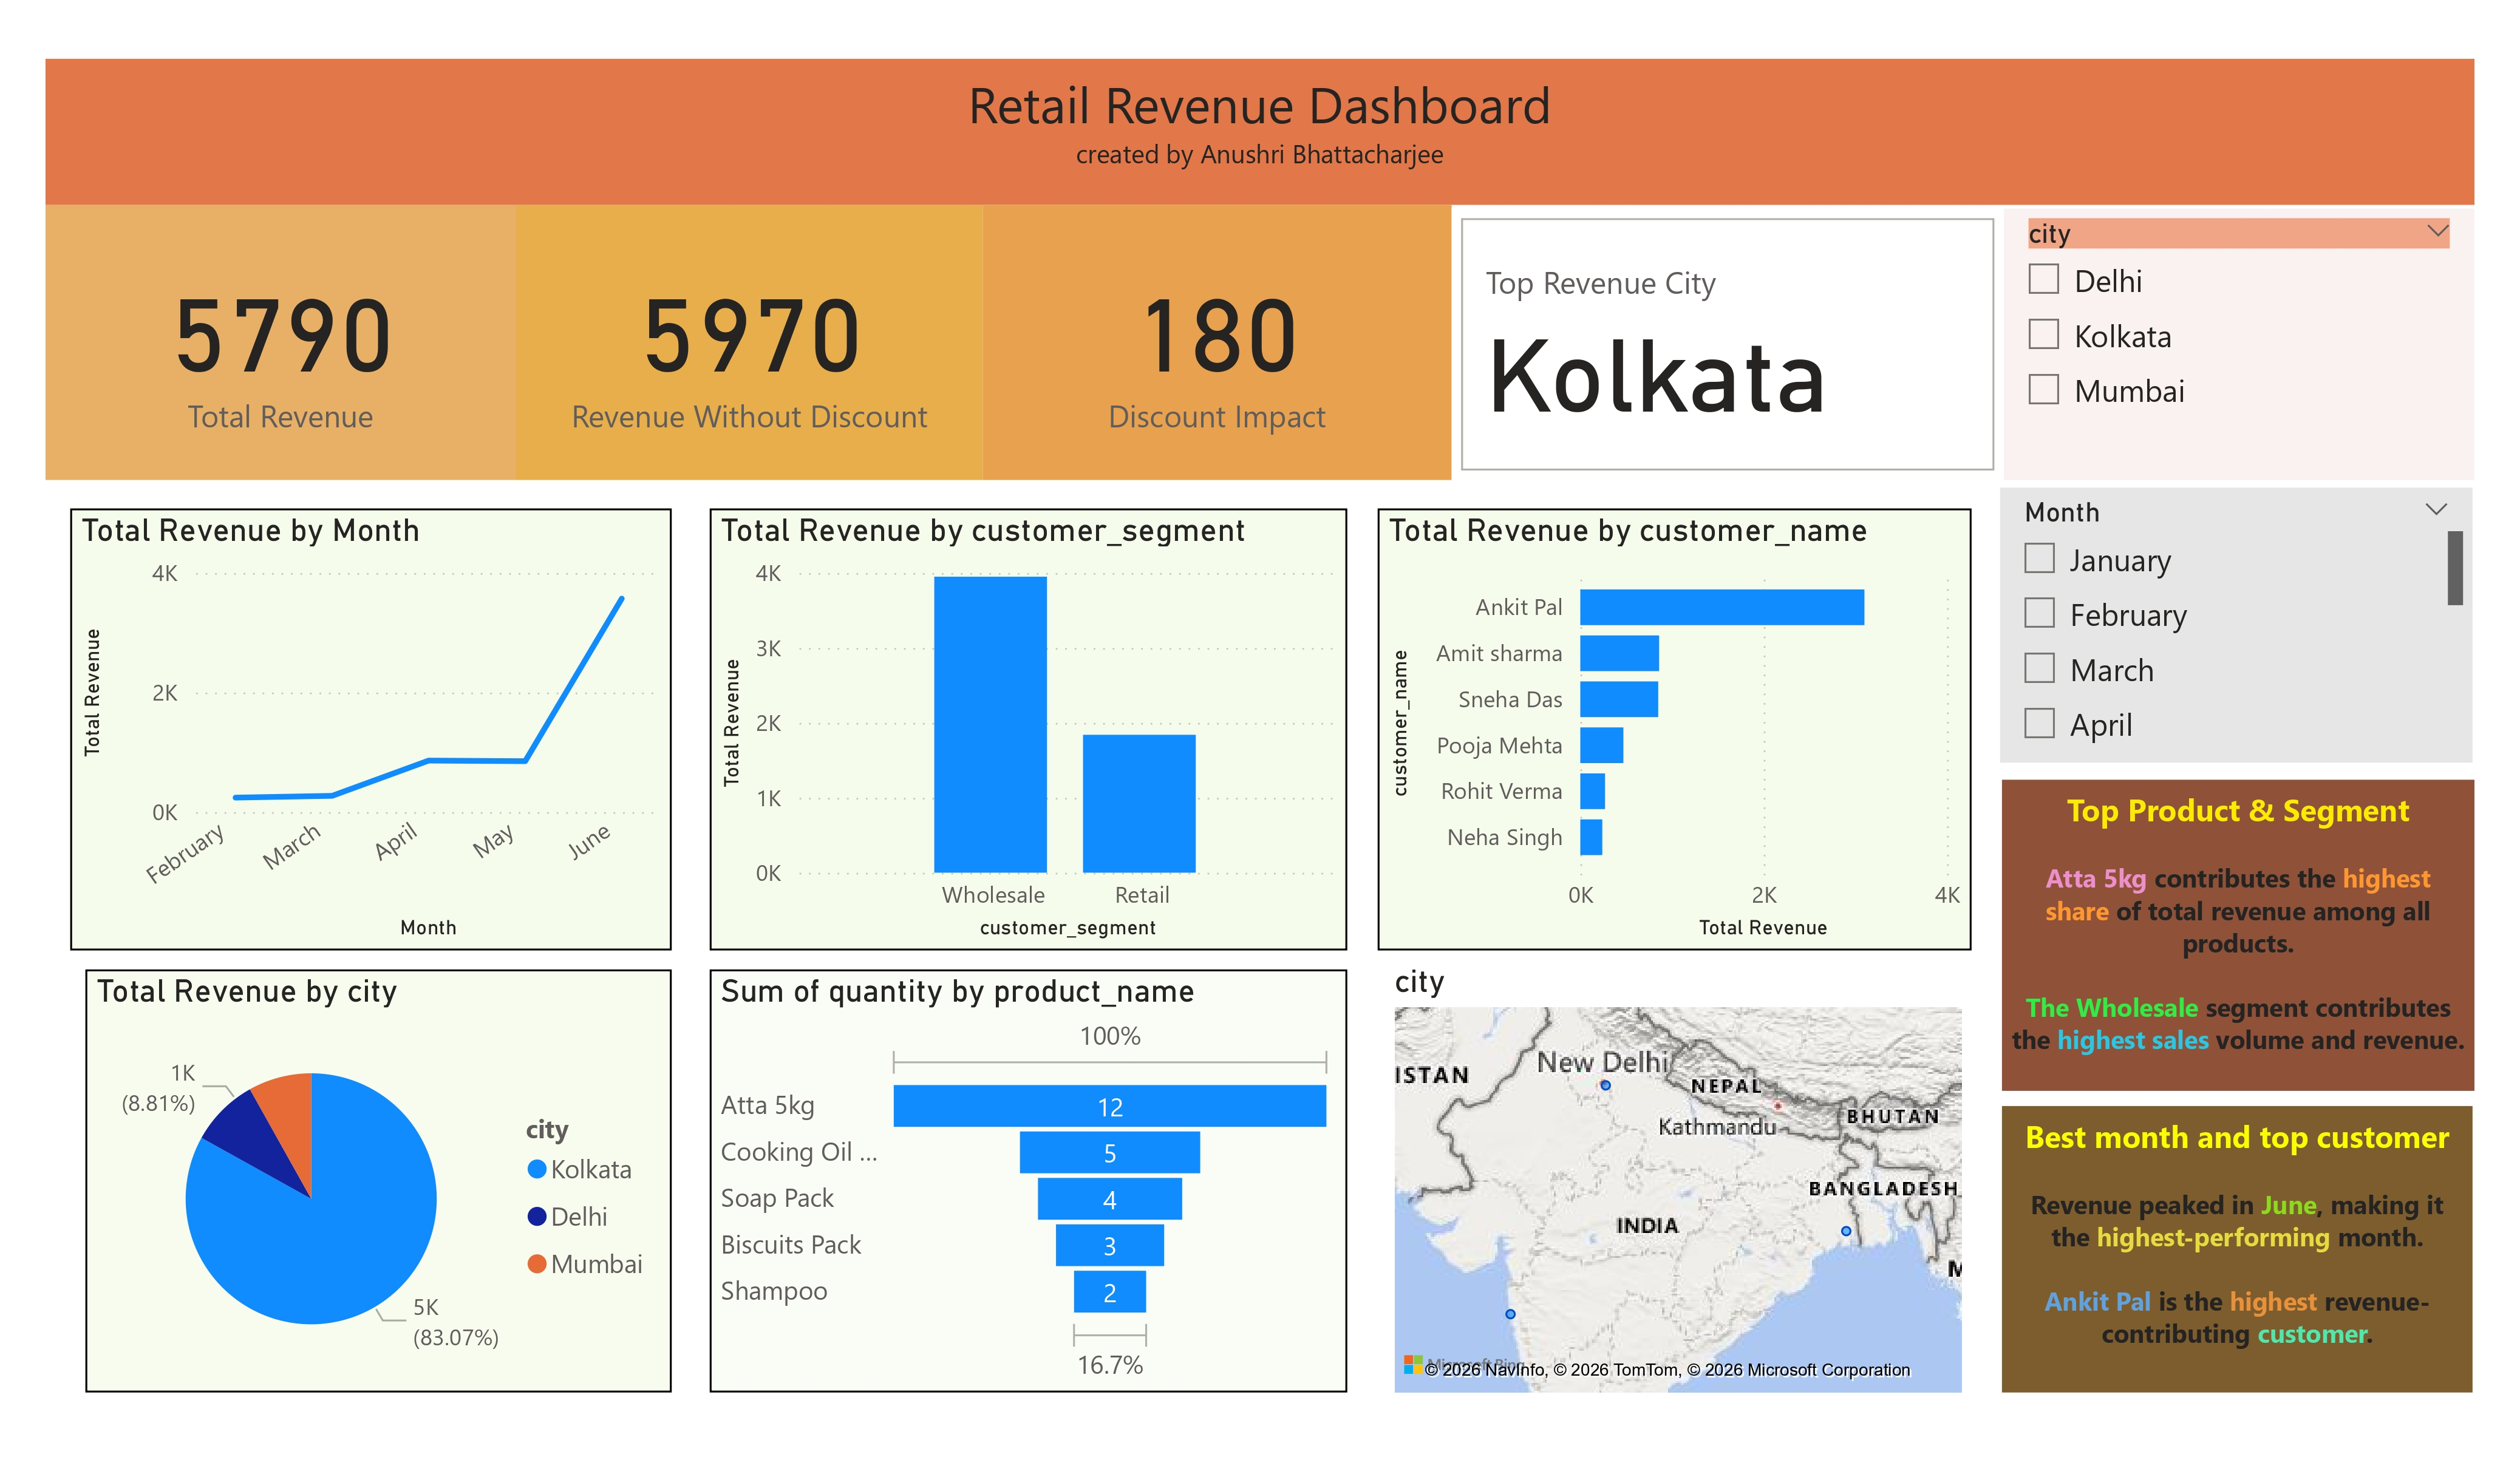

Layout of this report page (visuals, bound fields, positions):
{"tool":"powerbi","page":{"name":"Page 1","canvas":[1280,720],"ordinal":0},"visuals":[{"type":"card","fields":{"Values":["orders_table.Total Revenue"]},"box":[0,83.7,247.7,145.3],"z":0},{"type":"card","fields":{"Values":["orders_table.Revenue Without Discount"]},"box":[247.7,83.7,246.5,145.3],"z":1000},{"type":"textbox","box":[0,6.9,1280.3,76.8],"z":2000},{"type":"card","fields":{"Values":["orders_table.Discount Impact"]},"box":[494.2,83.7,246.5,145.3],"z":3000},{"type":"pieChart","fields":{"Category":["customers_table.city"],"Y":["orders_table.Total Revenue"]},"box":[12.8,487.2,317.4,223.3],"z":4000},{"type":"clusteredBarChart","fields":{"Category":["customers_table.customer_name"],"Y":["orders_table.Total Revenue"]},"box":[702.3,244.2,312.8,232.6],"z":5000},{"type":"lineChart","fields":{"Category":["orders_table.order_date.Variation.Date Hierarchy.Month"],"Y":["orders_table.Total Revenue"]},"box":[12.8,244.2,317.4,232.6],"z":6000},{"type":"columnChart","fields":{"Category":["customers_table.customer_segment"],"Y":["orders_table.Total Revenue"]},"box":[350,244.2,336,232.6],"z":7000},{"type":"slicer","fields":{"Values":["customers_table.city"]},"box":[1031.9,85.9,247.9,143.6],"z":8000},{"type":"slicer","fields":{"Values":["orders_table.order_date.Variation.Date Hierarchy.Month"]},"box":[1030.2,232.6,248.8,145.3],"z":9000},{"type":"cardVisual","fields":{"Data":["customers_table.Top Revenue City"]},"box":[741.1,85.9,290.8,143.6],"z":10000},{"type":"map","fields":{"Category":["customers_table.city"]},"box":[705.8,482.6,309.3,232.6],"z":11000},{"type":"textbox","box":[1031.4,387.2,248.8,164],"z":12000},{"type":"textbox","box":[1031.4,559.3,247.7,151.2],"z":13000},{"type":"funnel","fields":{"Category":["products_table.product_name"],"Y":["Sum(orders_table.quantity)"]},"box":[350,487.2,336,223.3],"z":14000}]}

Visuals, with their boxes in screenshot pixels (x1, y1, x2, y2):
card - orders_table.Total Revenue: region(59, 203, 523, 475)
card - orders_table.Revenue Without Discount: region(523, 203, 984, 475)
textbox: region(59, 59, 2457, 203)
card - orders_table.Discount Impact: region(984, 203, 1446, 475)
pieChart - customers_table.city x orders_table.Total Revenue: region(83, 958, 678, 1376)
clusteredBarChart - customers_table.customer_name x orders_table.Total Revenue: region(1374, 503, 1960, 939)
lineChart - orders_table.order_date.Variation.Date Hierarchy.Month x orders_table.Total Revenue: region(83, 503, 678, 939)
columnChart - customers_table.customer_segment x orders_table.Total Revenue: region(715, 503, 1344, 939)
slicer - customers_table.city: region(1992, 207, 2456, 475)
slicer - orders_table.order_date.Variation.Date Hierarchy.Month: region(1988, 481, 2454, 753)
cardVisual - customers_table.Top Revenue City: region(1447, 207, 1992, 475)
map - customers_table.city: region(1381, 949, 1960, 1385)
textbox: region(1990, 771, 2456, 1078)
textbox: region(1990, 1093, 2454, 1376)
funnel - products_table.product_name x Sum(orders_table.quantity): region(715, 958, 1344, 1376)
